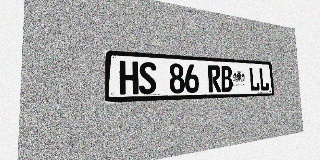6: (184, 64, 199, 93)
8: (169, 63, 185, 93)
B: (220, 66, 233, 92)
H: (119, 61, 138, 95)
L: (249, 67, 260, 91), (259, 67, 269, 91)
R: (208, 65, 221, 92)
S: (139, 62, 157, 94)
